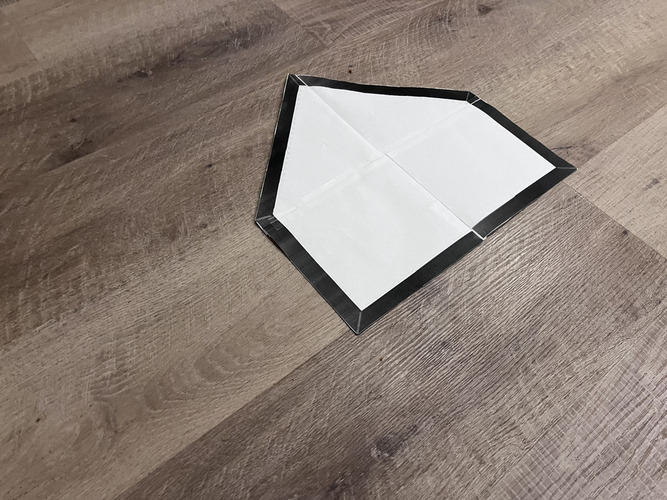homeplate: (253, 70, 577, 337)
